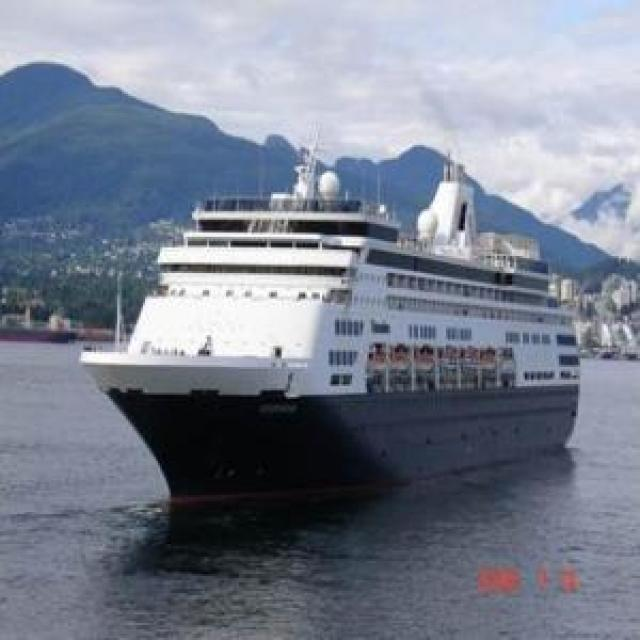passenger ship: (73, 148, 578, 505)
